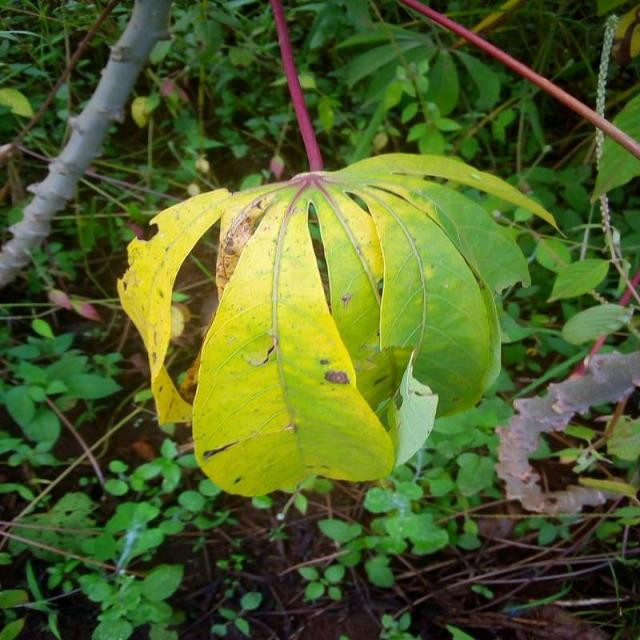cassava leaf: (116, 151, 557, 498)
